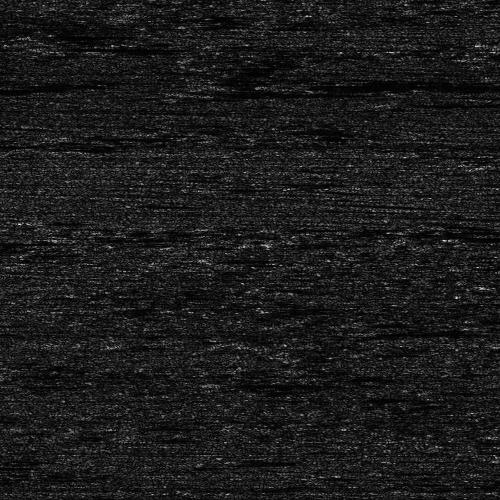rock: (0, 43, 109, 52), (248, 79, 311, 90), (42, 236, 105, 241), (177, 89, 230, 94), (448, 235, 469, 240)
shadow: (280, 79, 500, 90), (204, 89, 386, 94), (47, 43, 147, 52), (74, 236, 208, 241), (459, 235, 500, 240)
